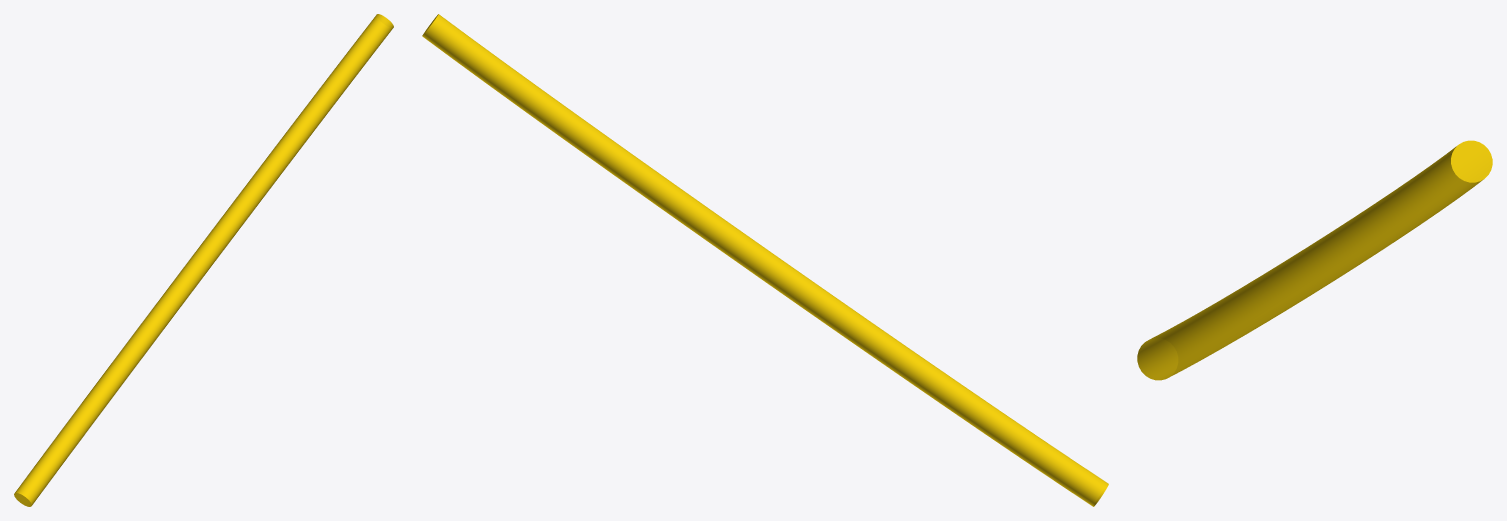
File: Event_421115418_track_15.fbx
The picture shows the model from 3 angles, left to right: view 1: azimuth 30°, elevation 25°; view 2: azimuth 150°, elevation 25°; view 3: azimuth 270°, elevation 25°; orthographic projection. The views are drawn at different scales.
Parts seen in each view (by area): view 1: Model; view 2: Model; view 3: Model.
Boxes of the visible parts, x1=… form: Model: x1=14, y1=14, x2=393, y2=506; Model: x1=422, y1=14, x2=1108, y2=506; Model: x1=1137, y1=140, x2=1492, y2=380.
Bounding box in the file's own units: 0.9717 × 0.6786 × 0.3308.
